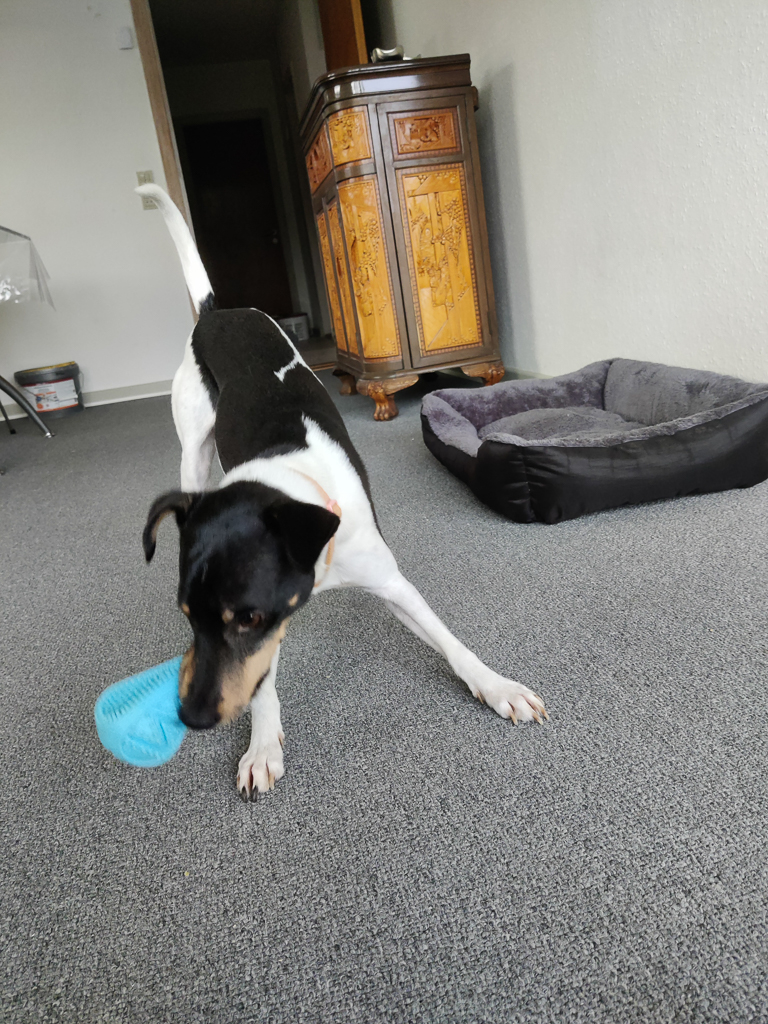Dog: (123, 172, 616, 812)
